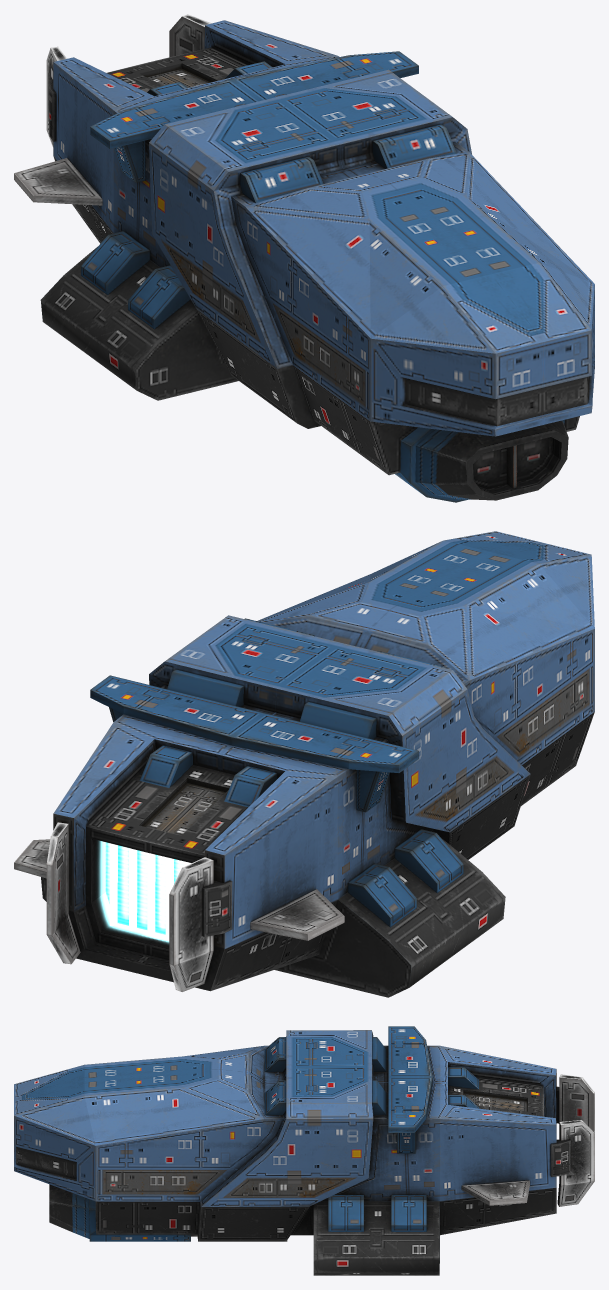
File: HeavyDestroyer.glb
The picture shows the model from 3 angles, top to bottom: view 1: azimuth 30°, elevation 25°; view 2: azimuth 150°, elevation 25°; view 3: azimuth 270°, elevation 25°; orthographic projection. The views are drawn at different scales.
Visible parts, largest first — view 1: HeavyDestroyer.1; view 2: HeavyDestroyer.1; view 3: HeavyDestroyer.1.
Part boxes in pixels (left/top/right/bottom): HeavyDestroyer.1: left=14, top=14, right=594, bottom=502; HeavyDestroyer.1: left=14, top=531, right=594, bottom=997; HeavyDestroyer.1: left=14, top=1026, right=594, bottom=1275.
Size of the model in its own units: 0.483 by 0.3036 by 0.978.
1 material, 1 textured.
